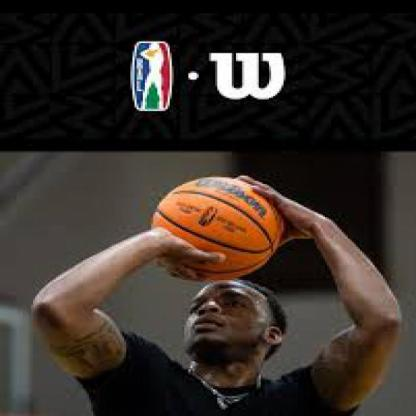basketball: (151, 176, 281, 282)
